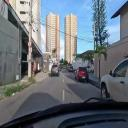NoEstacionar: (27, 40, 32, 48)
